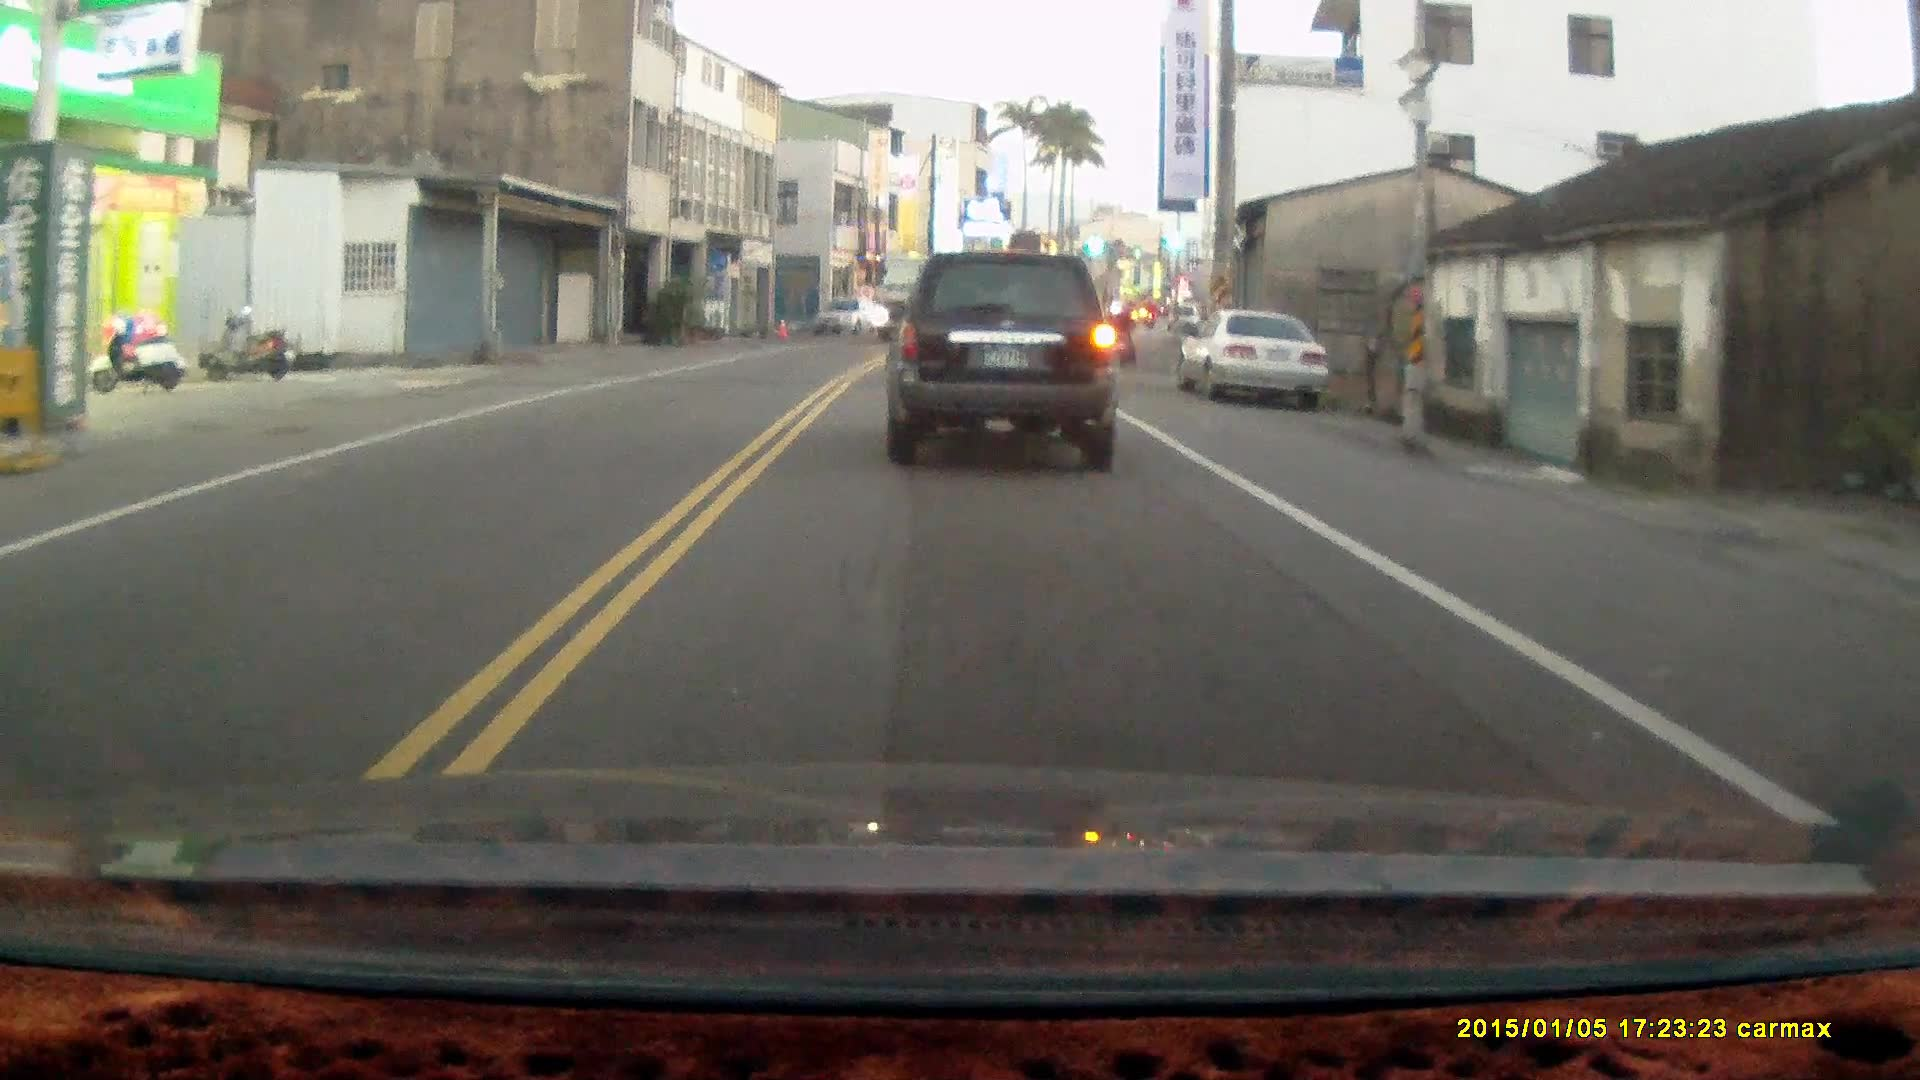rider: (1106, 297, 1138, 370)
vehicle: (884, 249, 1124, 477), (1178, 306, 1329, 408), (813, 297, 880, 342)
